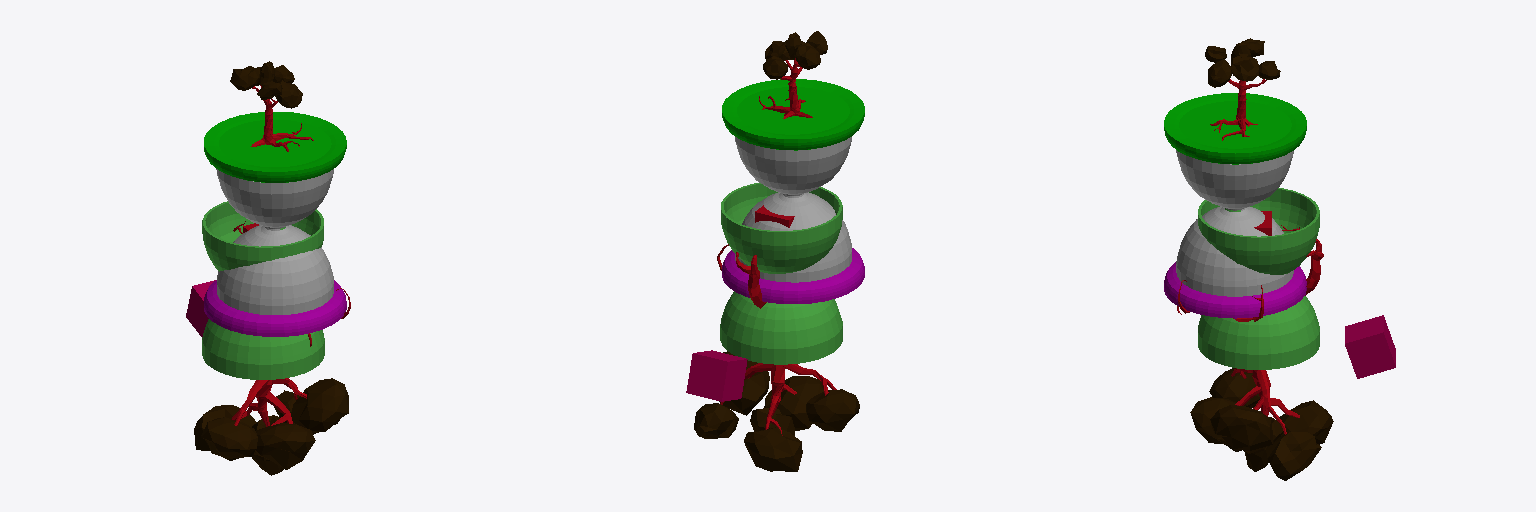
File: hourglass_4.obj
3 renders of one model, left to right at view 1: azimuth 30°, elevation 25°; view 2: azimuth 150°, elevation 25°; view 3: azimuth 270°, elevation 25°, orthographic.
Visible parts, largest first — view 1: inner_glass_Sphere.003, hourglass.001_Sphere.002, bottom_of_hourglass_Cylinder, top_of_hourglass_Cylinder.001, leaves_5_Icosphere.005, leaves_3_Icosphere.003, leaves_Icosphere, top_tree_Cylinder.003, hourglass_Sphere, leaves_1_Icosphere.001, Cube.001_Cube.005, top_tree.001_Cylinder.002 (+1 smaller); view 2: hourglass.001_Sphere.002, inner_glass_Sphere.003, bottom_of_hourglass_Cylinder, top_of_hourglass_Cylinder.001, Cube.001_Cube.005, hourglass_Sphere, top_tree_Cylinder.003, leaves_1_Icosphere.001, leaves_Icosphere, leaves_3_Icosphere.003, leaves_4_Icosphere.004, leaves_5_Icosphere.005 (+2 smaller); view 3: hourglass.001_Sphere.002, inner_glass_Sphere.003, bottom_of_hourglass_Cylinder, top_of_hourglass_Cylinder.001, Cube.001_Cube.005, leaves_5_Icosphere.005, hourglass_Sphere, top_tree_Cylinder.003, leaves_4_Icosphere.004, leaves_1_Icosphere.001, leaves_Icosphere, leaves_3_Icosphere.003 (+3 smaller).
Boxes of the visible parts, <box> form: inner_glass_Sphere.003: <box>216,169,333,314</box>; hourglass.001_Sphere.002: <box>202,201,324,379</box>; bottom_of_hourglass_Cylinder: <box>204,112,346,182</box>; top_of_hourglass_Cylinder.001: <box>204,280,346,336</box>; leaves_5_Icosphere.005: <box>291,378,348,434</box>; leaves_3_Icosphere.003: <box>254,423,315,469</box>; leaves_Icosphere: <box>201,417,257,458</box>; top_tree_Cylinder.003: <box>231,221,350,426</box>; hourglass_Sphere: <box>202,226,324,379</box>; leaves_1_Icosphere.001: <box>194,405,256,460</box>; Cube.001_Cube.005: <box>186,280,215,336</box>; top_tree.001_Cylinder.002: <box>251,85,313,151</box>; hourglass.001_Sphere.002: <box>720,183,842,364</box>; inner_glass_Sphere.003: <box>735,137,851,282</box>; bottom_of_hourglass_Cylinder: <box>722,79,864,150</box>; top_of_hourglass_Cylinder.001: <box>722,248,864,303</box>; Cube.001_Cube.005: <box>686,350,747,401</box>; hourglass_Sphere: <box>720,210,842,364</box>; top_tree_Cylinder.003: <box>717,244,836,435</box>; leaves_1_Icosphere.001: <box>744,427,802,471</box>; leaves_Icosphere: <box>806,389,859,431</box>; leaves_3_Icosphere.003: <box>764,376,823,430</box>; leaves_4_Icosphere.004: <box>694,403,738,438</box>; leaves_5_Icosphere.005: <box>719,351,769,415</box>; hourglass.001_Sphere.002: <box>1198,188,1319,369</box>; inner_glass_Sphere.003: <box>1176,150,1293,296</box>; bottom_of_hourglass_Cylinder: <box>1164,93,1306,164</box>; top_of_hourglass_Cylinder.001: <box>1164,262,1306,318</box>; Cube.001_Cube.005: <box>1345,315,1395,378</box>; leaves_5_Icosphere.005: <box>1210,405,1272,453</box>; hourglass_Sphere: <box>1198,217,1319,369</box>; top_tree_Cylinder.003: <box>1177,225,1323,434</box>; leaves_4_Icosphere.004: <box>1266,432,1321,480</box>; leaves_1_Icosphere.001: <box>1279,400,1333,444</box>; leaves_Icosphere: <box>1209,368,1259,407</box>; leaves_3_Icosphere.003: <box>1190,397,1241,451</box>.
Size of the model in its own units: 2.69 by 7.58 by 3.82.